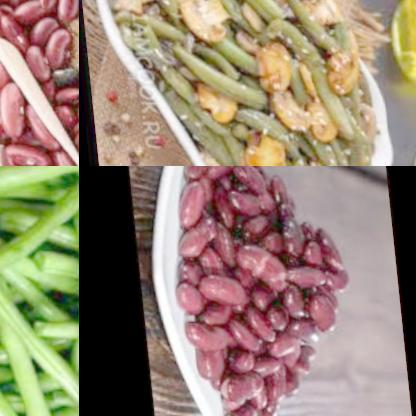fasol: (154, 166, 365, 416), (0, 166, 79, 416), (155, 47, 270, 166), (0, 0, 79, 166), (237, 0, 362, 87), (0, 55, 79, 166), (160, 34, 269, 106), (228, 105, 330, 166), (329, 110, 370, 166), (134, 0, 186, 31)
garlic: (402, 135, 416, 166)
